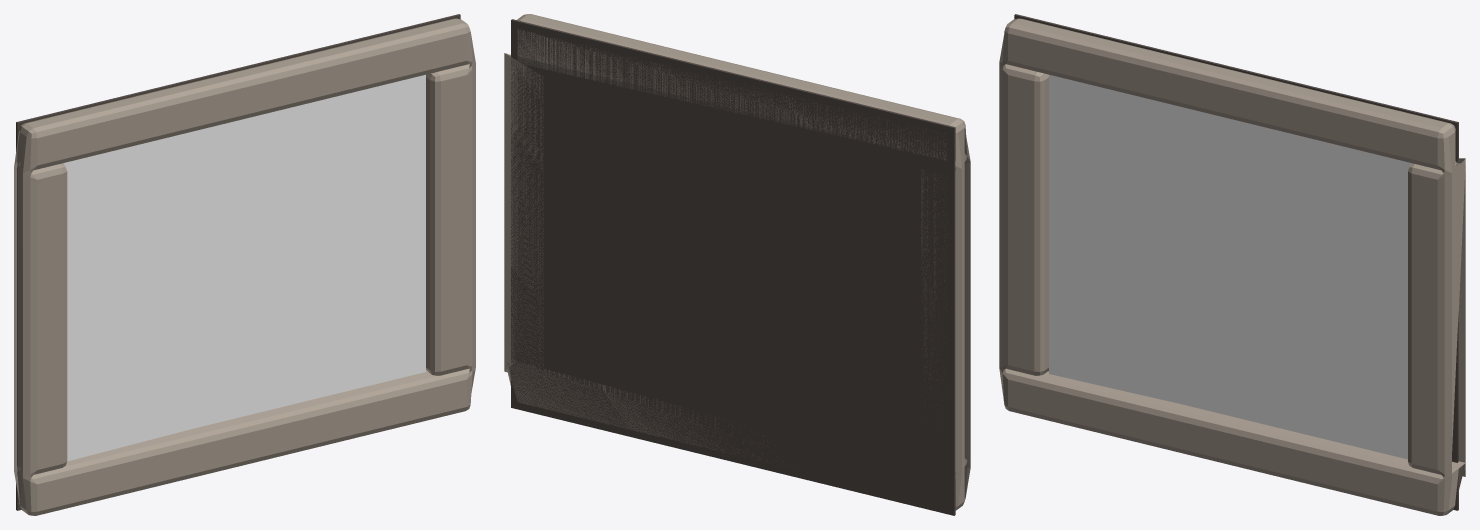
File: Photo Frame Landscape.fbx
3 views of the same model, side by side, from view 1: azimuth 30°, elevation 25°; view 2: azimuth 150°, elevation 25°; view 3: azimuth 330°, elevation 25° (orthographic).
Parts seen in each view (by area): view 1: Photo, Frame, Back; view 2: Back, Frame; view 3: Photo, Frame, Back.
Boxes of the visible parts, x1=… form: Photo: x1=63, y1=74, x2=425, y2=461; Frame: x1=14, y1=18, x2=475, y2=515; Back: x1=16, y1=14, x2=460, y2=510; Back: x1=511, y1=19, x2=955, y2=515; Frame: x1=504, y1=14, x2=970, y2=510; Photo: x1=1049, y1=74, x2=1411, y2=459; Frame: x1=999, y1=18, x2=1465, y2=515; Back: x1=1014, y1=14, x2=1458, y2=510.
Bounding box in the file's own units: 0.4002 × 0.326 × 0.022.
